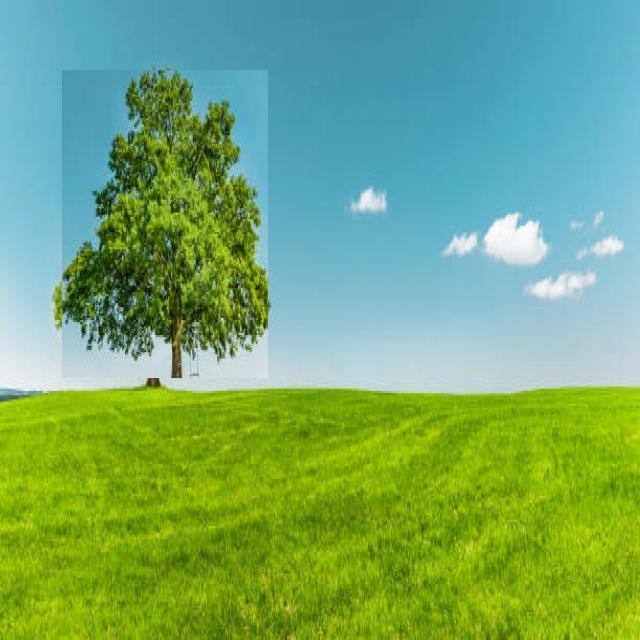tree: (62, 70, 268, 378)
